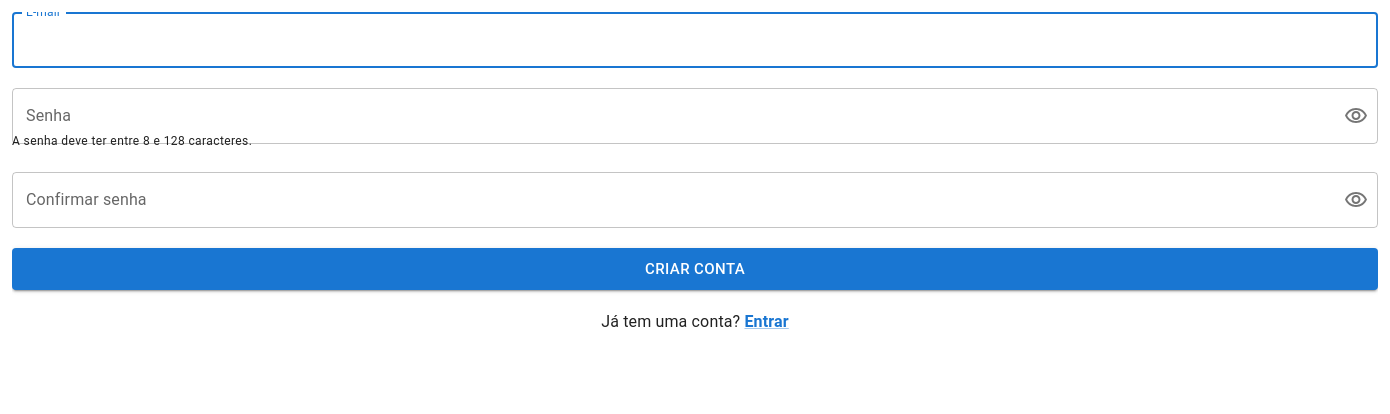
Test: RegisterForm › não expõe detalhes internos quando o cadastro falha
This screenshot has width=1390, height=414.
Type "user@example.com" into the field labelled "E-mail" at (695, 40), box left=12, top=12, right=1378, bottom=68
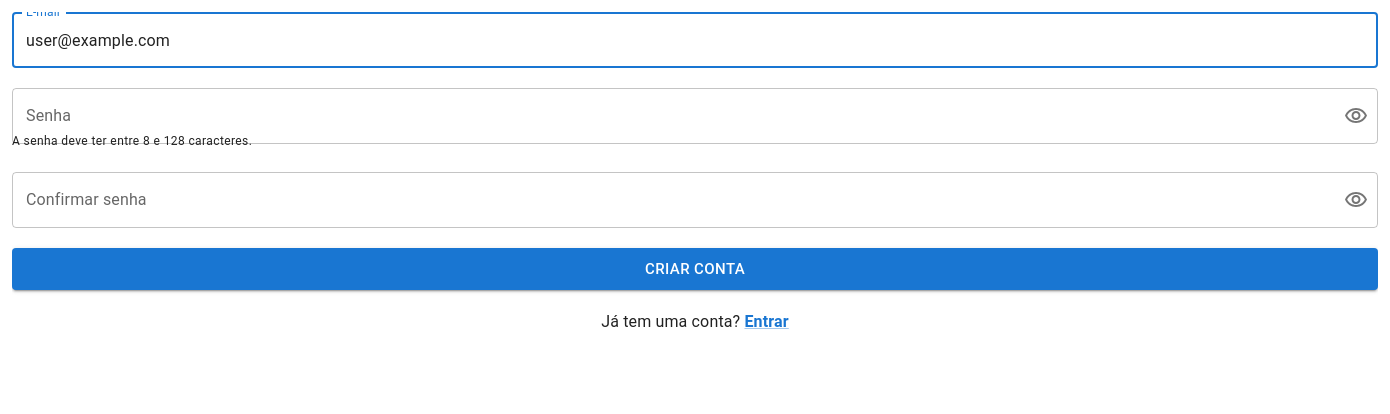
Type "valid-password" into the password field labelled "Senha" at (670, 116), box left=12, top=88, right=1328, bottom=144
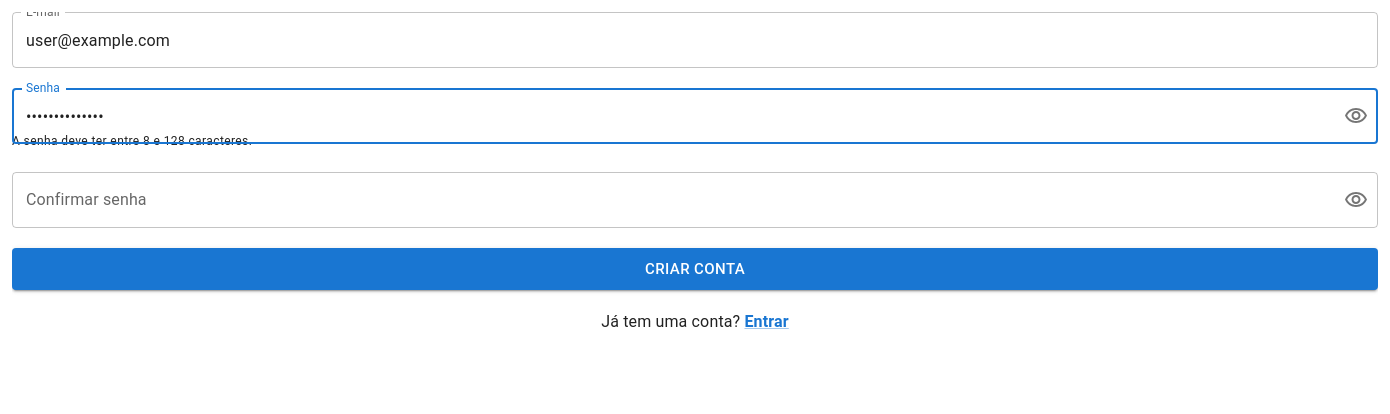
Type "valid-password" into the password field labelled "Confirmar senha" at (670, 200), box left=12, top=172, right=1328, bottom=228
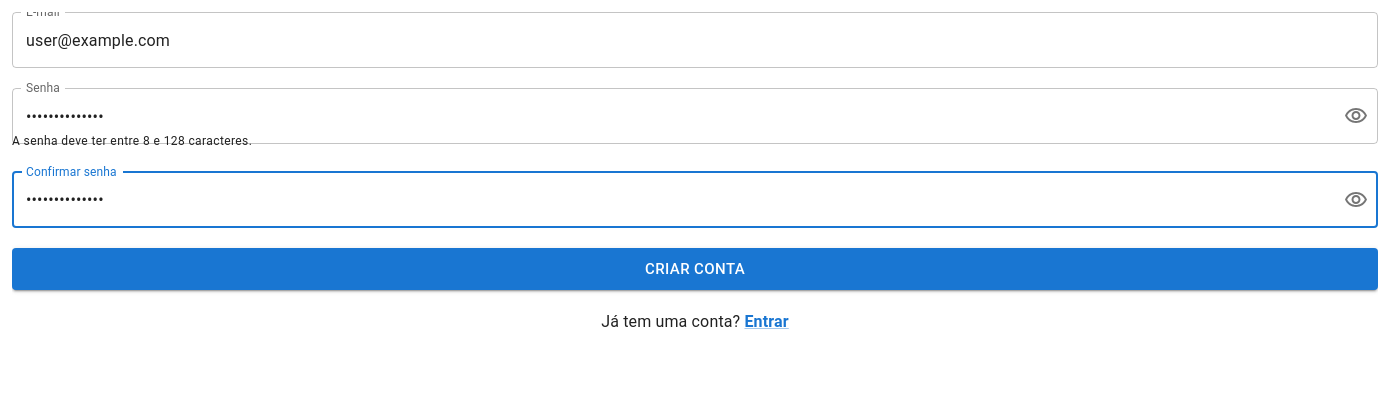
Click the button "Criar conta" at (695, 269), box left=12, top=248, right=1378, bottom=290
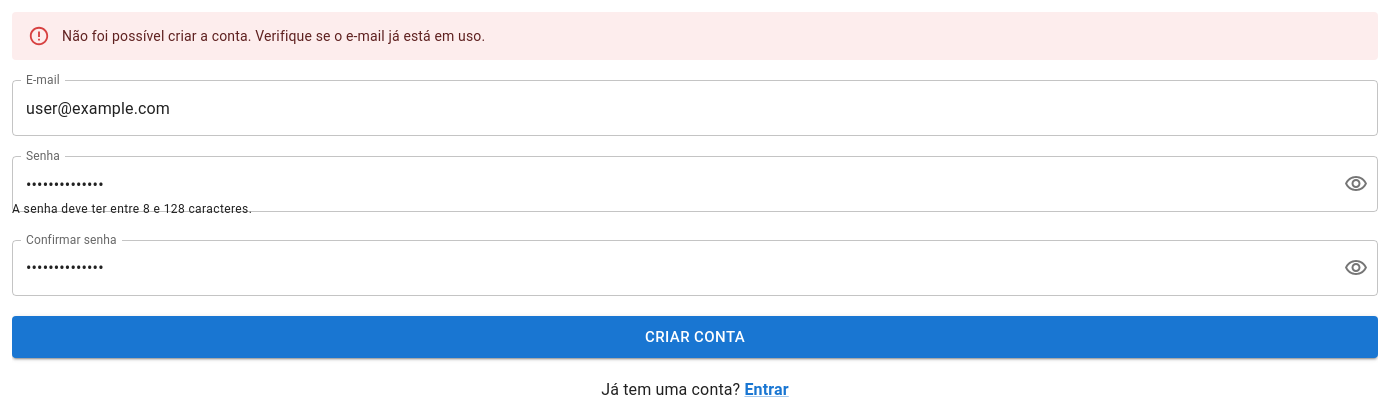
Expected: the text "Não foi possível criar a conta. Verifique se o e-mail já está em uso." is shown, left=62, top=28, right=485, bottom=44
